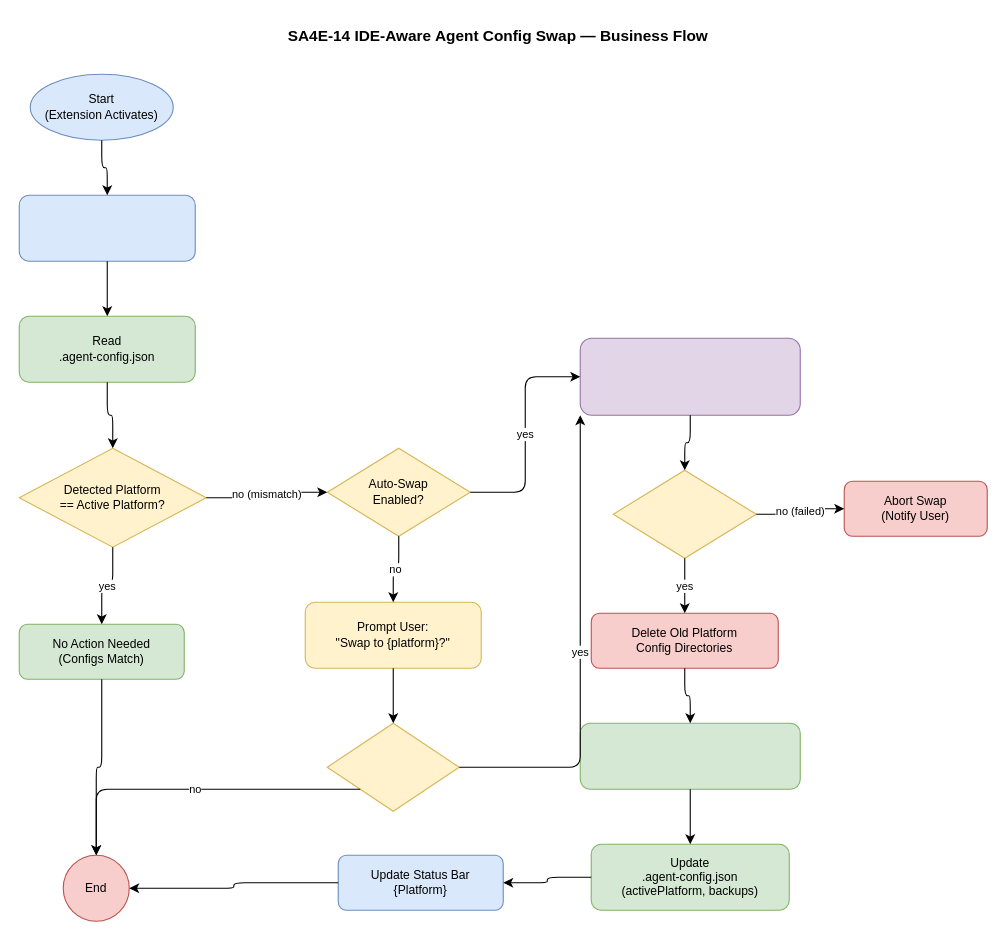
Image size: 1007x941. Some labels were removed from this diagram. Each missing label, with the centre of its shape:
Backup Current Config (.agent-config-backup/ {platform}-{timestamp}/): point (689, 376)
Copy New Platform Config from conversions/{platform}/: point (689, 755)
Detect Current IDE (appName, extensions): point (106, 227)
User Confirms?: point (392, 766)
Verify Backup Complete?: point (684, 513)
